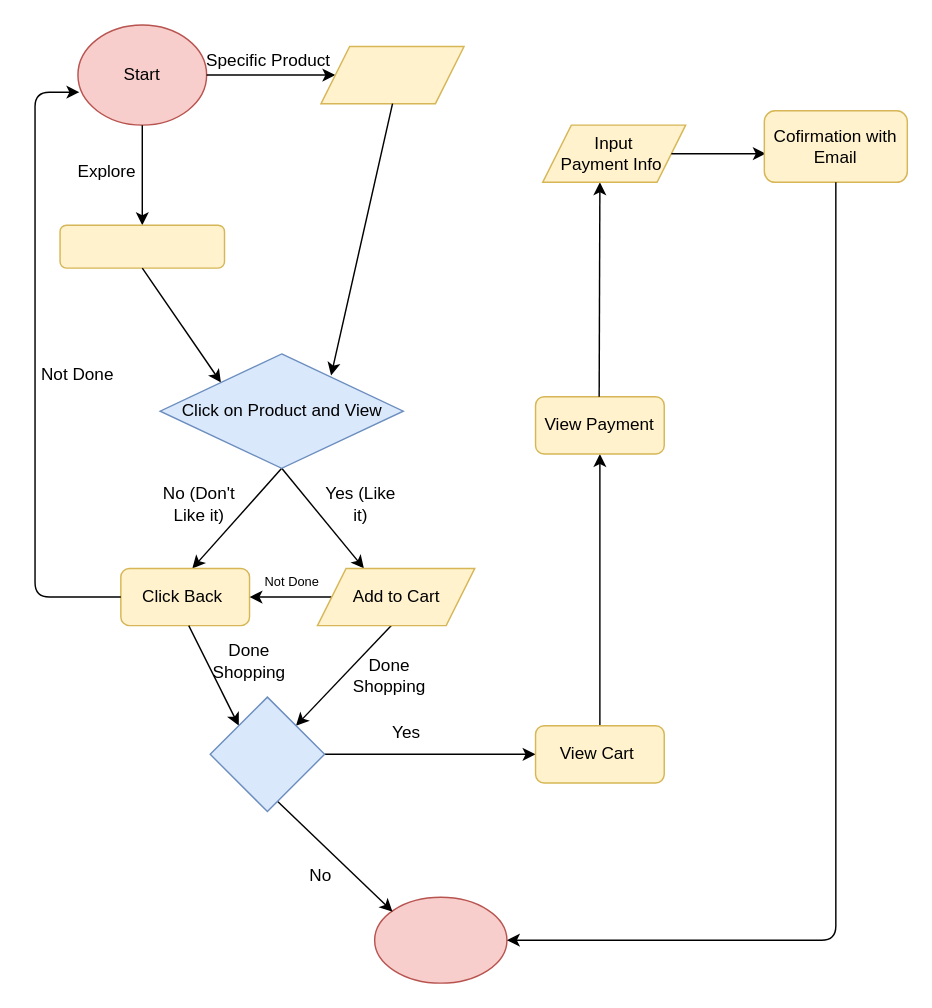
Image size: 932x1008. Some labels were removed from this diagram. Each missing label, with the centre of its shape:
"Check Out" goes at [267,754].
"Exit" goes at [440,939].
"Input Search" goes at [392,74].
"Scan Products" goes at [142,246].
